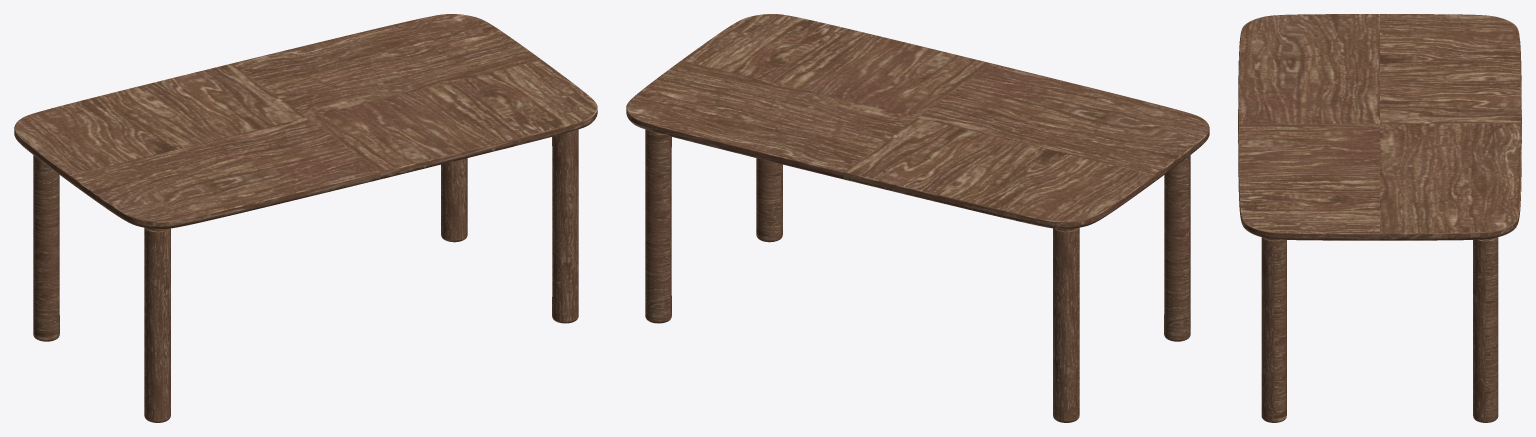
Rendered from tableTop.obj.
3 views of the same model, side by side, from view 1: azimuth 30°, elevation 25°; view 2: azimuth 150°, elevation 25°; view 3: azimuth 270°, elevation 25° (orthographic). The views are drawn at different scales.
Size of the model in its own units: 1649 by 700 by 899.
Materials: 1 (1 with a texture image).
